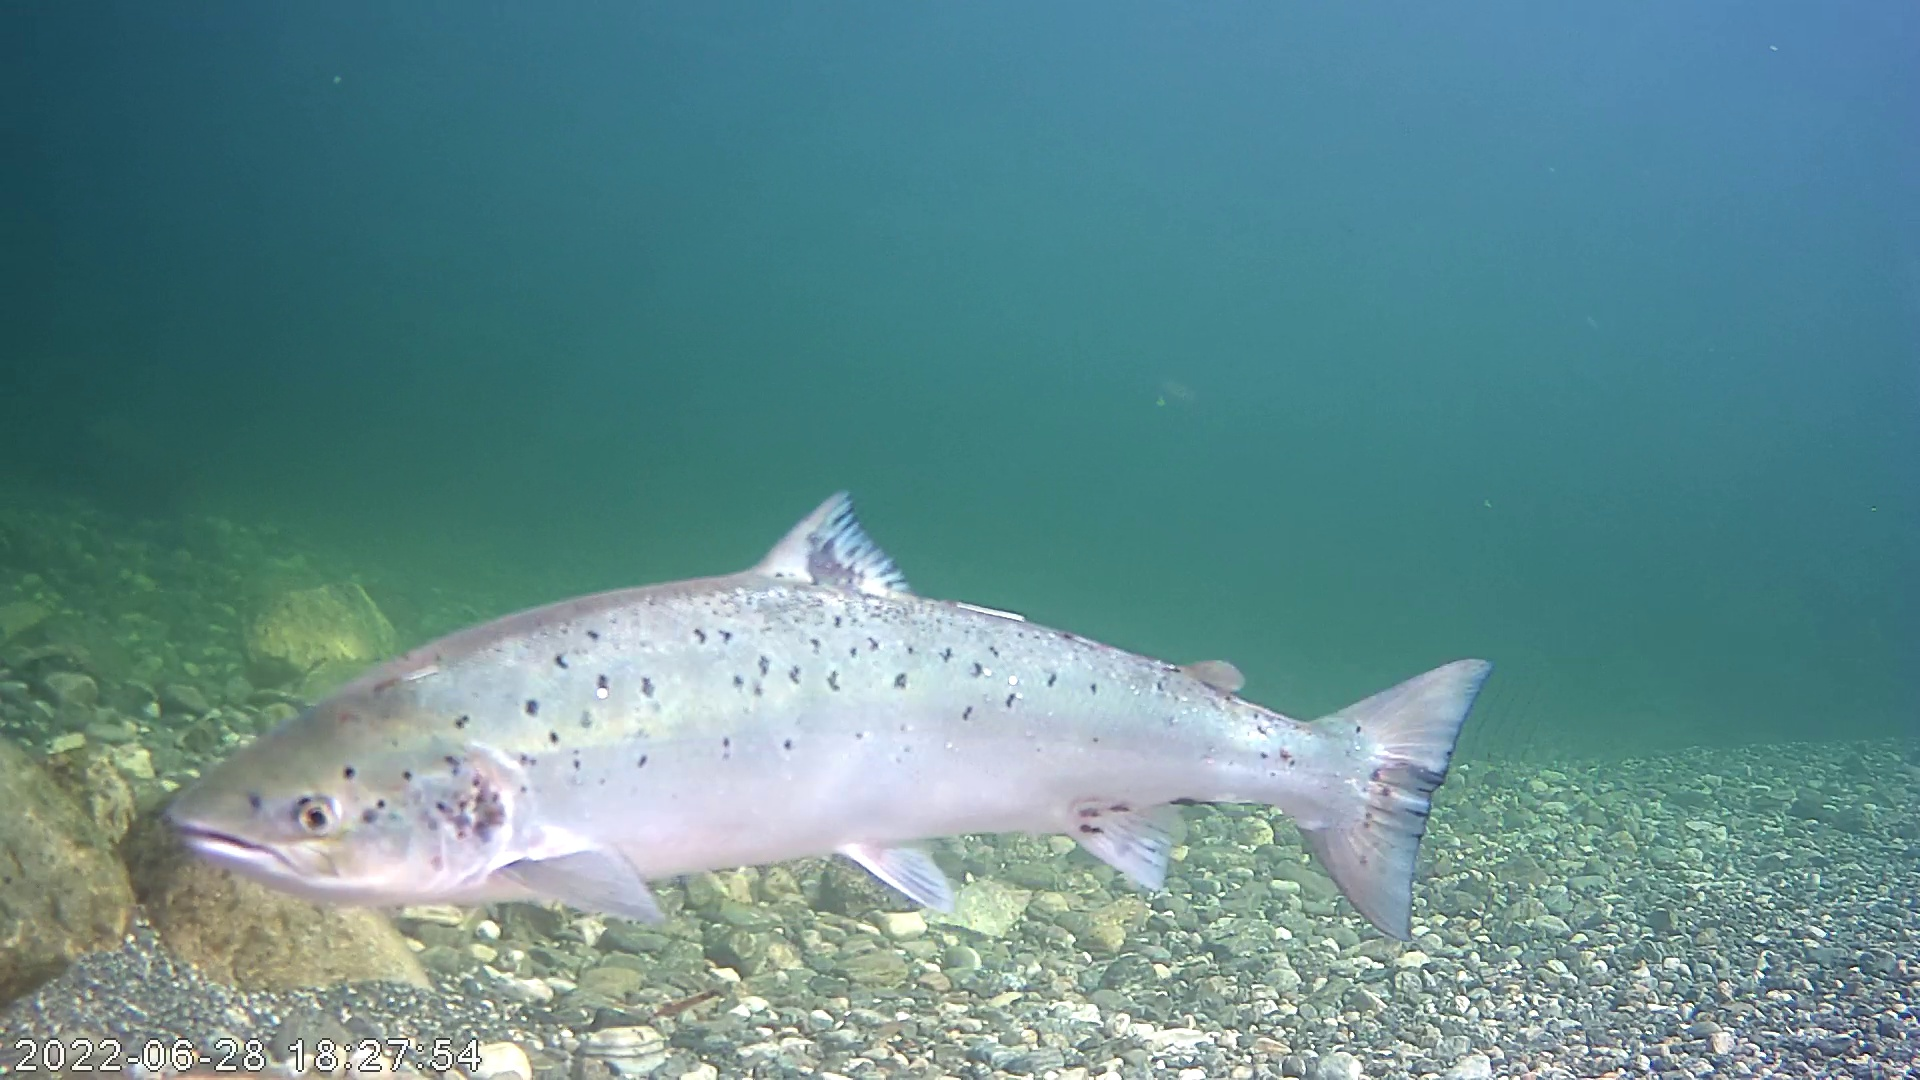salmon: (324, 454, 1461, 949)
